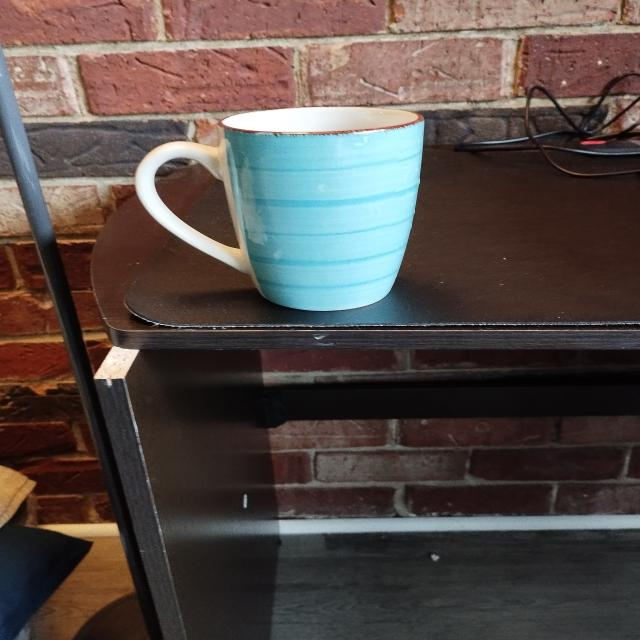Cup: (113, 82, 471, 340)
